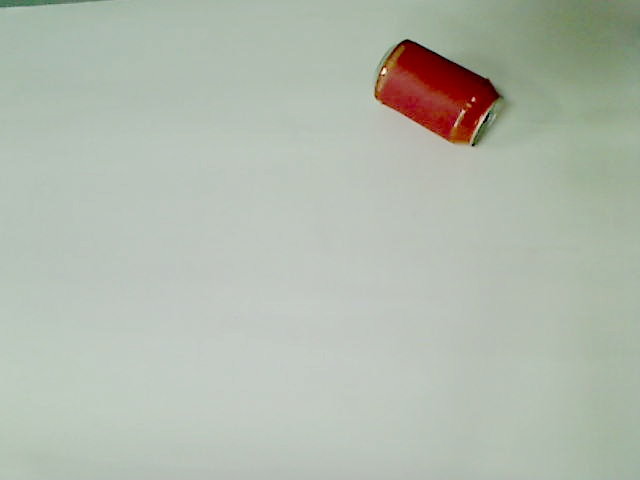can: (370, 36, 507, 150)
